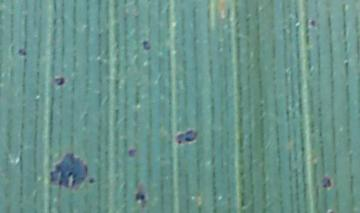tarspot: (47, 151, 89, 190), (174, 129, 198, 145), (319, 174, 332, 189), (133, 191, 146, 202), (141, 37, 151, 51), (52, 76, 66, 86), (127, 146, 136, 157), (17, 48, 28, 56), (309, 19, 317, 27), (88, 178, 95, 185), (327, 208, 335, 213)
